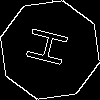H: (25, 25, 79, 71)
